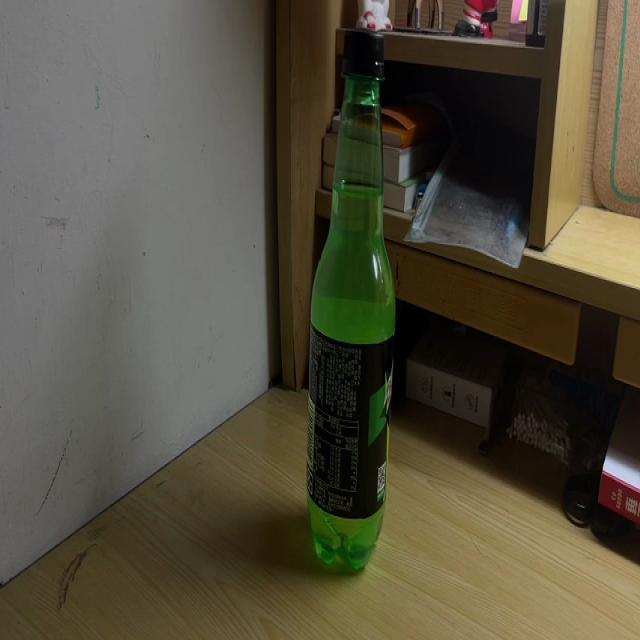Mountain-Dew: (305, 28, 397, 574)
